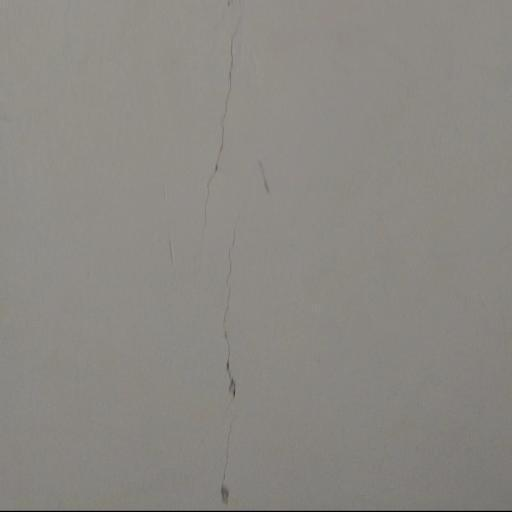minor_crack: (180, 7, 262, 507)
